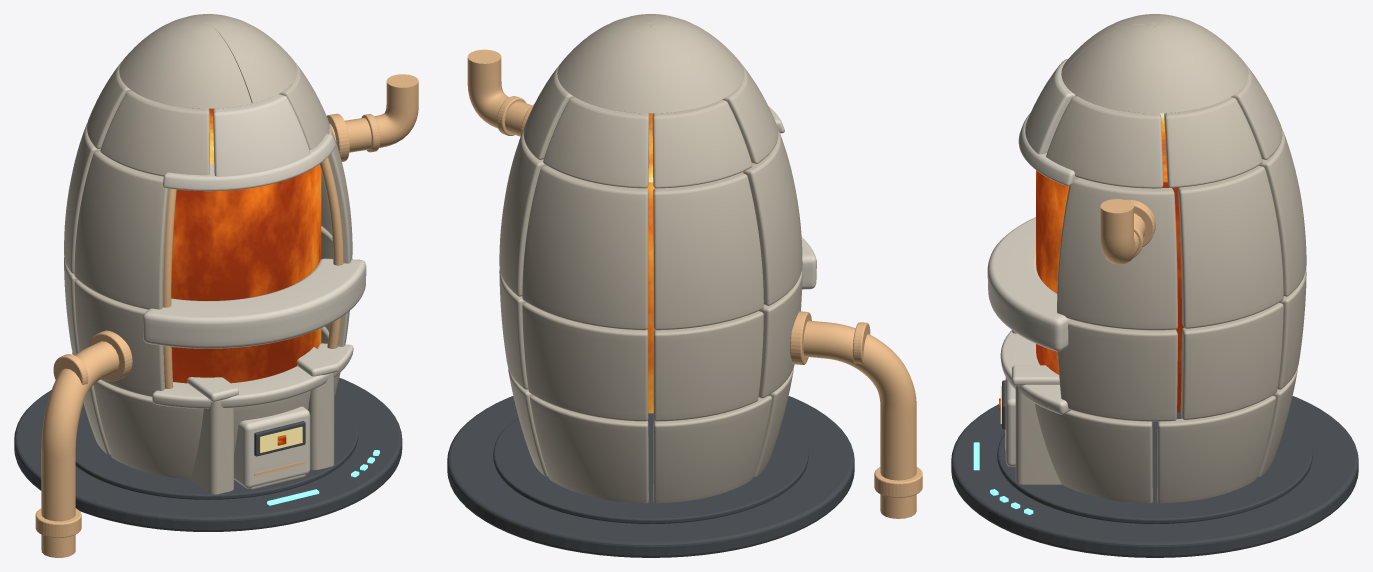
File: reactor.glb
3 views of the same model, side by side, from view 1: azimuth 30°, elevation 25°; view 2: azimuth 150°, elevation 25°; view 3: azimuth 270°, elevation 25° (orthographic). The views are drawn at different scales.
Parts seen in each view (by area): view 1: flame_core, reactor_base, reactor_shell_cap, reactor_shell_2_4, reactor_rib_big, reactor_shell_0_5, reactor_shell_3_5, reactor_pipe_left, reactor_shell_3_0, reactor_base_top, reactor_shell_1_4, reactor_rib_low (+23 smaller); view 2: reactor_base, reactor_shell_2_2, reactor_shell_2_3, reactor_shell_cap, reactor_shell_1_2, reactor_base_top, reactor_shell_1_3, reactor_shell_0_4, reactor_shell_0_3, reactor_pipe_left, reactor_shell_3_3, reactor_shell_3_4 (+13 smaller); view 3: reactor_base, reactor_shell_2_1, reactor_shell_cap, reactor_shell_2_0, reactor_shell_1_0, reactor_shell_1_1, reactor_base_top, reactor_shell_0_2, reactor_shell_0_1, reactor_shell_3_1, reactor_shell_3_2, reactor_rib_big (+13 smaller).
Boxes of the visible parts, bbox=[...] form: flame_core: bbox=[171, 108, 321, 383]; reactor_base: bbox=[14, 377, 402, 531]; reactor_shell_cap: bbox=[119, 14, 297, 108]; reactor_shell_2_4: bbox=[74, 151, 168, 309]; reactor_rib_big: bbox=[143, 258, 366, 348]; reactor_shell_0_5: bbox=[93, 379, 203, 479]; reactor_shell_3_5: bbox=[100, 90, 209, 176]; reactor_pipe_left: bbox=[41, 341, 119, 557]; reactor_shell_3_0: bbox=[213, 94, 310, 176]; reactor_base_top: bbox=[75, 398, 358, 499]; reactor_shell_1_4: bbox=[74, 280, 164, 396]; reactor_rib_low: bbox=[152, 343, 353, 408]; reactor_base: bbox=[447, 396, 854, 557]; reactor_shell_2_2: bbox=[522, 165, 648, 330]; reactor_shell_2_3: bbox=[653, 172, 763, 330]; reactor_shell_cap: bbox=[557, 14, 744, 113]; reactor_shell_1_2: bbox=[522, 302, 648, 421]; reactor_base_top: bbox=[493, 413, 808, 523]; reactor_shell_1_3: bbox=[653, 311, 763, 421]; reactor_shell_0_4: bbox=[653, 395, 771, 503]; reactor_shell_0_3: bbox=[530, 395, 648, 503]; reactor_pipe_left: bbox=[803, 320, 916, 518]; reactor_shell_3_3: bbox=[543, 97, 649, 188]; reactor_shell_3_4: bbox=[652, 99, 752, 188]; reactor_base: bbox=[951, 396, 1358, 557]; reactor_shell_2_1: bbox=[1178, 165, 1283, 328]; reactor_shell_cap: bbox=[1061, 14, 1248, 113]; reactor_shell_2_0: bbox=[1057, 178, 1177, 330]; reactor_shell_1_0: bbox=[1058, 320, 1177, 421]; reactor_shell_1_1: bbox=[1180, 302, 1283, 420]; reactor_base_top: bbox=[997, 412, 1312, 523]; reactor_shell_0_2: bbox=[1157, 395, 1275, 503]; reactor_shell_0_1: bbox=[1035, 403, 1152, 503]; reactor_shell_3_1: bbox=[1046, 96, 1163, 188]; reactor_shell_3_2: bbox=[1164, 97, 1262, 187]; reactor_rib_big: bbox=[987, 217, 1071, 351].
Bounding box in the file's own units: 4.03 × 4.28 × 3.36.
Materials: 7 (1 with a texture image).
